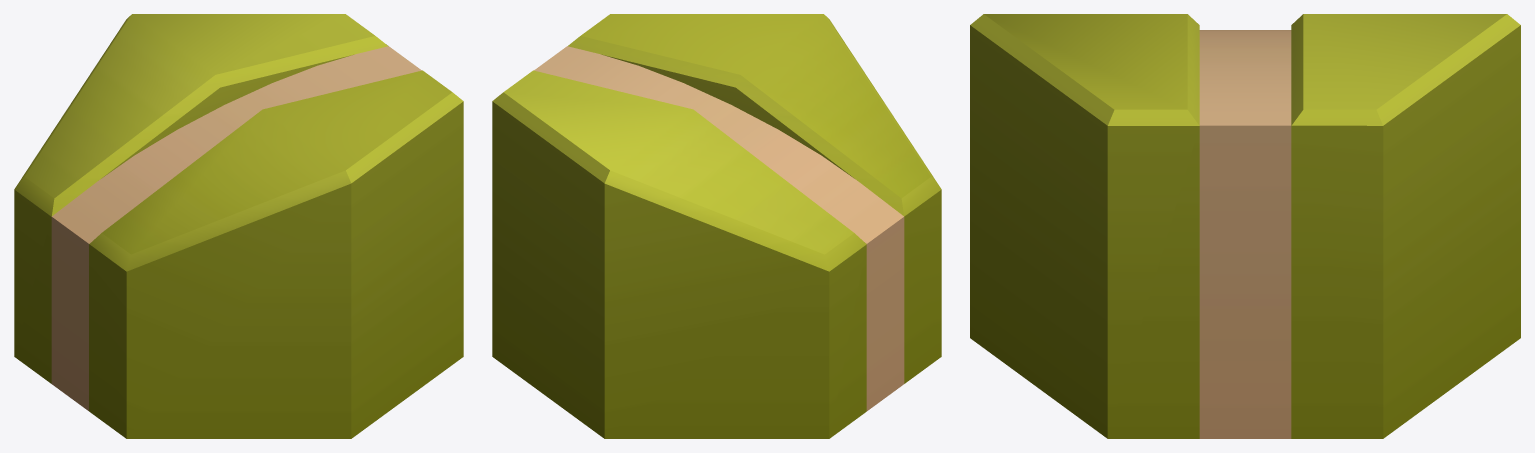
Rendered from kaykit-medieval-hexagon-pack-hex-road-a-sloped-low.glb.
3 renders of one model, left to right at view 1: azimuth 30°, elevation 25°; view 2: azimuth 150°, elevation 25°; view 3: azimuth 270°, elevation 25°, orthographic. The views are drawn at different scales.
Visible parts, largest first — view 1: hex_road_A_sloped_low; view 2: hex_road_A_sloped_low; view 3: hex_road_A_sloped_low.
Boxes of the visible parts, left/top/right/bottom form: hex_road_A_sloped_low: left=14, top=14, right=463, bottom=438; hex_road_A_sloped_low: left=492, top=14, right=941, bottom=438; hex_road_A_sloped_low: left=970, top=14, right=1520, bottom=438.
Bounding box in the file's own units: 2 × 1.5 × 2.31.
Materials: 1 (1 with a texture image).
